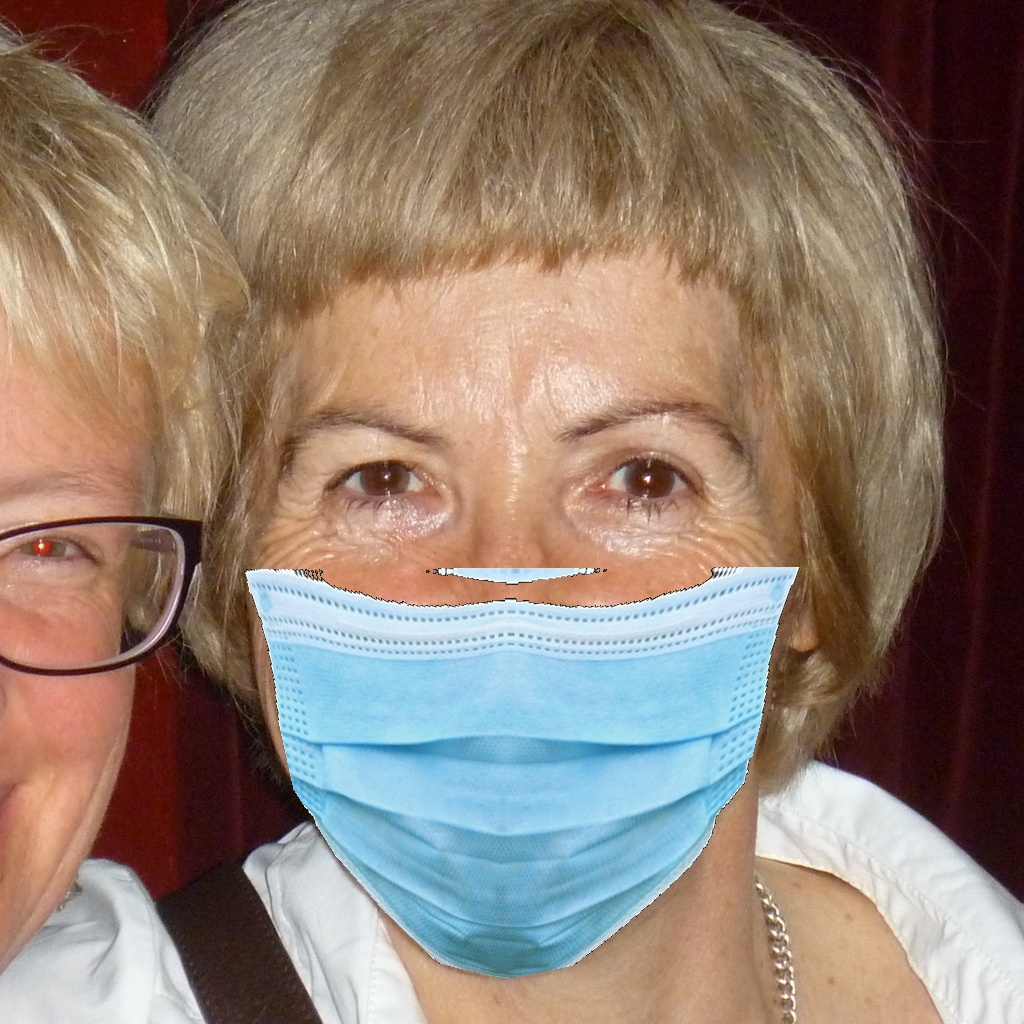Mask: (242, 351, 807, 982)
